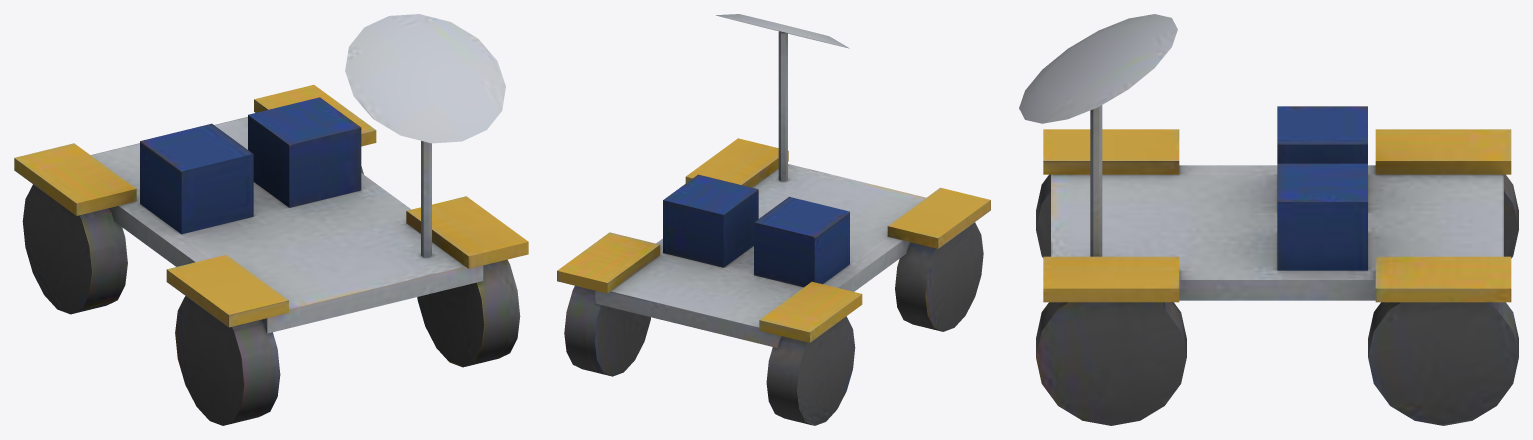
File: rover_lunar.glb
The picture shows the model from 3 angles, left to right: view 1: azimuth 30°, elevation 25°; view 2: azimuth 150°, elevation 25°; view 3: azimuth 270°, elevation 25°; orthographic projection. The views are drawn at different scales.
Parts seen in each view (by area): view 1: rover_lunar; view 2: rover_lunar; view 3: rover_lunar.
Part boxes in pixels (left/top/right/bottom): rover_lunar: left=14, top=14, right=528, bottom=425; rover_lunar: left=557, top=14, right=990, bottom=425; rover_lunar: left=1019, top=14, right=1518, bottom=425.
Size of the model in its own units: 2.5 by 2.64 by 3.31.
Materials: 1 (1 with a texture image).
